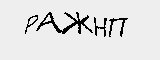А: (40, 12, 61, 32)
Ж: (65, 10, 92, 34)
Н: (93, 18, 105, 39)
П: (108, 15, 128, 39)
Р: (24, 13, 37, 37)
